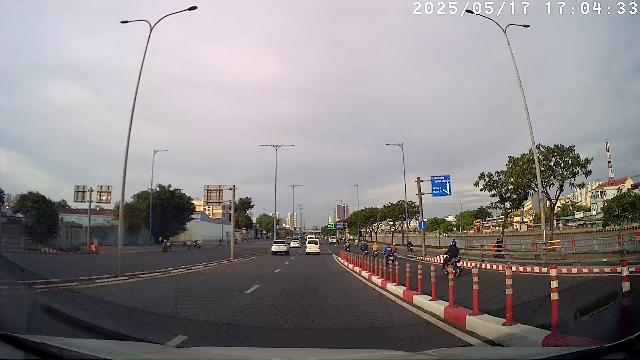301a-cac-xe-chi-duoc-di-thang: (418, 221, 427, 229)
